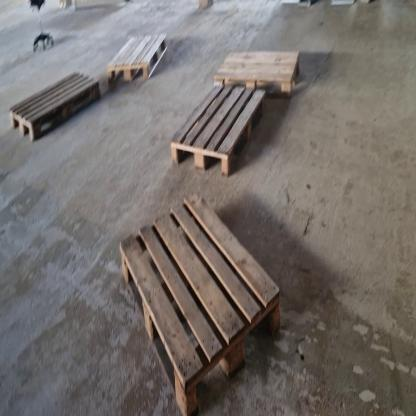BoxFace: (115, 187, 285, 416), (167, 83, 270, 180), (7, 64, 104, 145), (210, 48, 304, 103), (106, 33, 169, 87)
